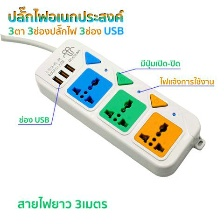three_eye_plug: (27, 35, 205, 179)
